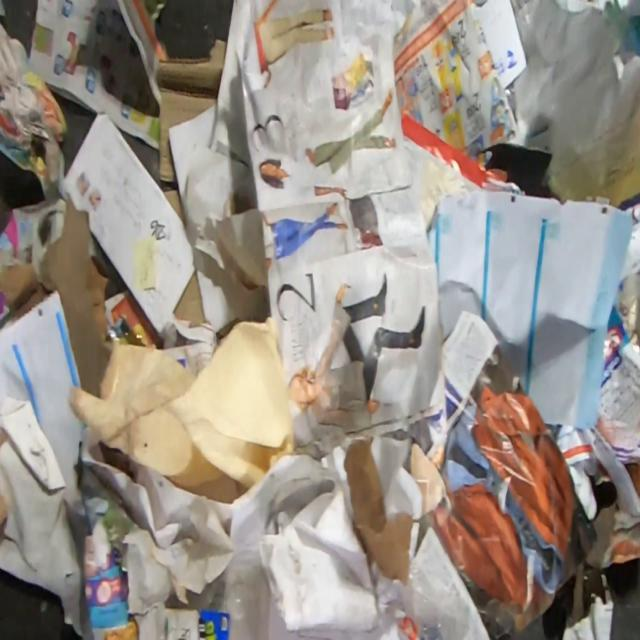cardboard: (154, 38, 227, 182), (132, 606, 232, 640), (174, 271, 206, 329), (163, 189, 185, 225)
soft_plastic: (375, 558, 474, 640)
